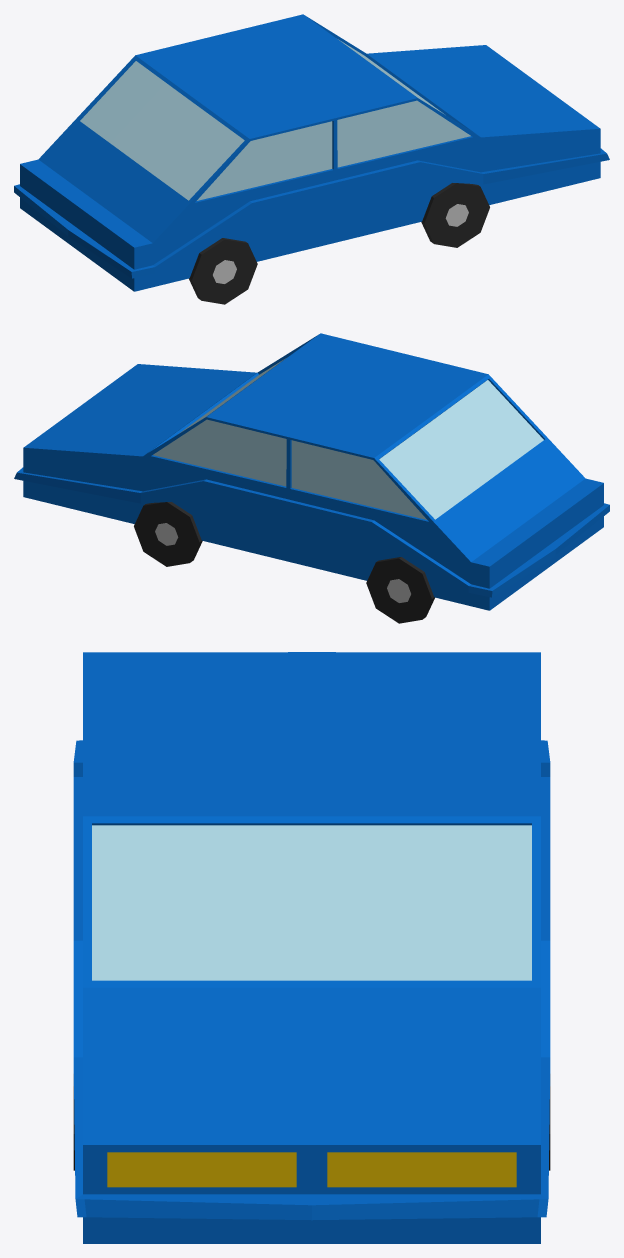
Rendered from Coche_Azul.fbx.
3 views of the same model, one above another, from view 1: azimuth 30°, elevation 25°; view 2: azimuth 150°, elevation 25°; view 3: azimuth 270°, elevation 25° (orthographic). The views are drawn at different scales.
Visible parts, largest first — view 1: Cube, Cylinder.001, Cylinder; view 2: Cube, Cylinder.001, Cylinder; view 3: Cube.
Part boxes in pixels (<box>): Cube: <box>14,14,609,291</box>; Cylinder.001: <box>189,238,257,304</box>; Cylinder: <box>421,183,489,247</box>; Cube: <box>14,333,609,610</box>; Cylinder.001: <box>366,557,434,623</box>; Cylinder: <box>134,502,202,566</box>; Cube: <box>73,652,550,1243</box>.
Bounding box in the file's own units: 407 × 126 × 173.
